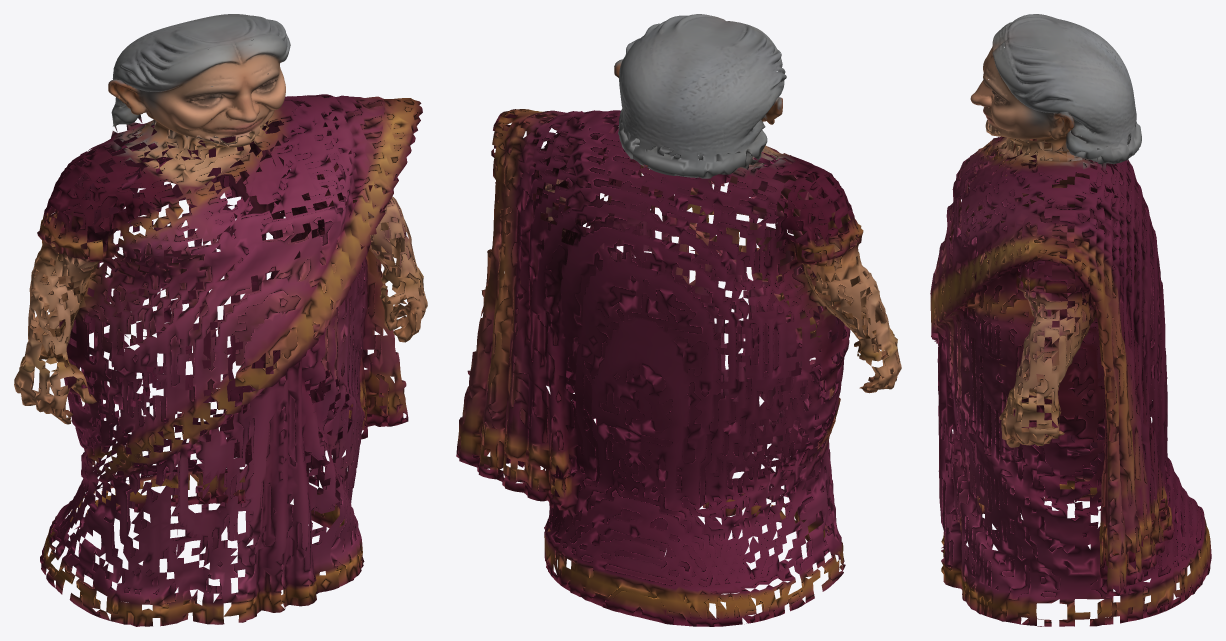
File: sitharaman.glb
The picture shows the model from 3 angles, left to right: view 1: azimuth 30°, elevation 25°; view 2: azimuth 150°, elevation 25°; view 3: azimuth 270°, elevation 25°; orthographic projection. The views are drawn at different scales.
Bounding box in the file's own units: 1.45 × 1.82 × 0.8725.
